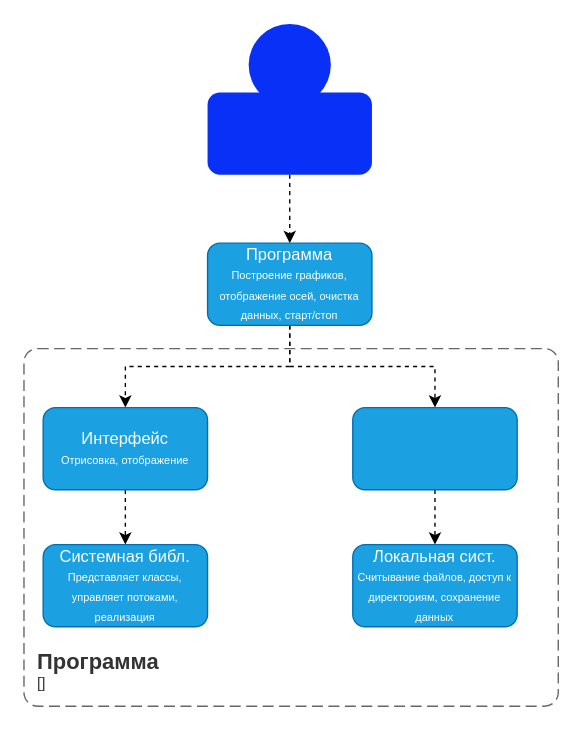
The diagram is 582 pixels wide and 730 high, and some of its shapes have lost their labels. Here are the shapes that lost their labels. From the top down, the box of each, then its label:
(207, 92, 371, 174): Пользователь (Взаимодействует с программой)
(351, 406, 517, 490): Системные ресурсы Обработка, отрисовка, выполнение
